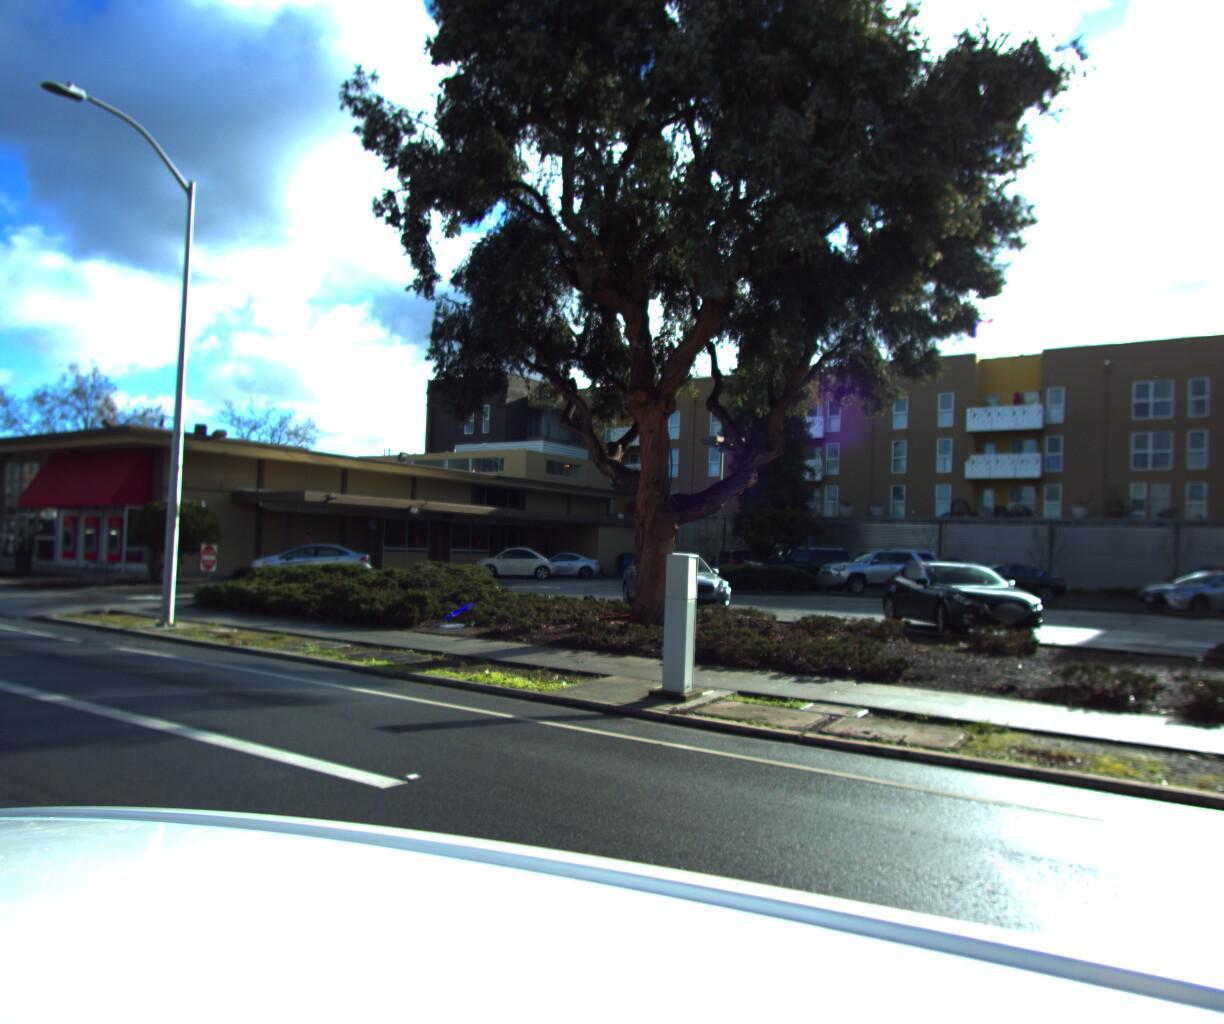car: (870, 555, 1053, 647), (612, 543, 738, 621), (232, 535, 374, 582)
